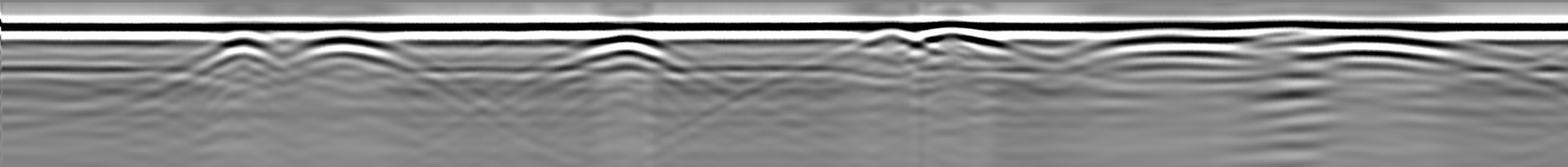pipe: (857, 22, 1001, 45), (1303, 27, 1441, 48), (1103, 25, 1234, 46), (292, 23, 397, 46), (576, 21, 667, 47), (203, 22, 275, 50)
